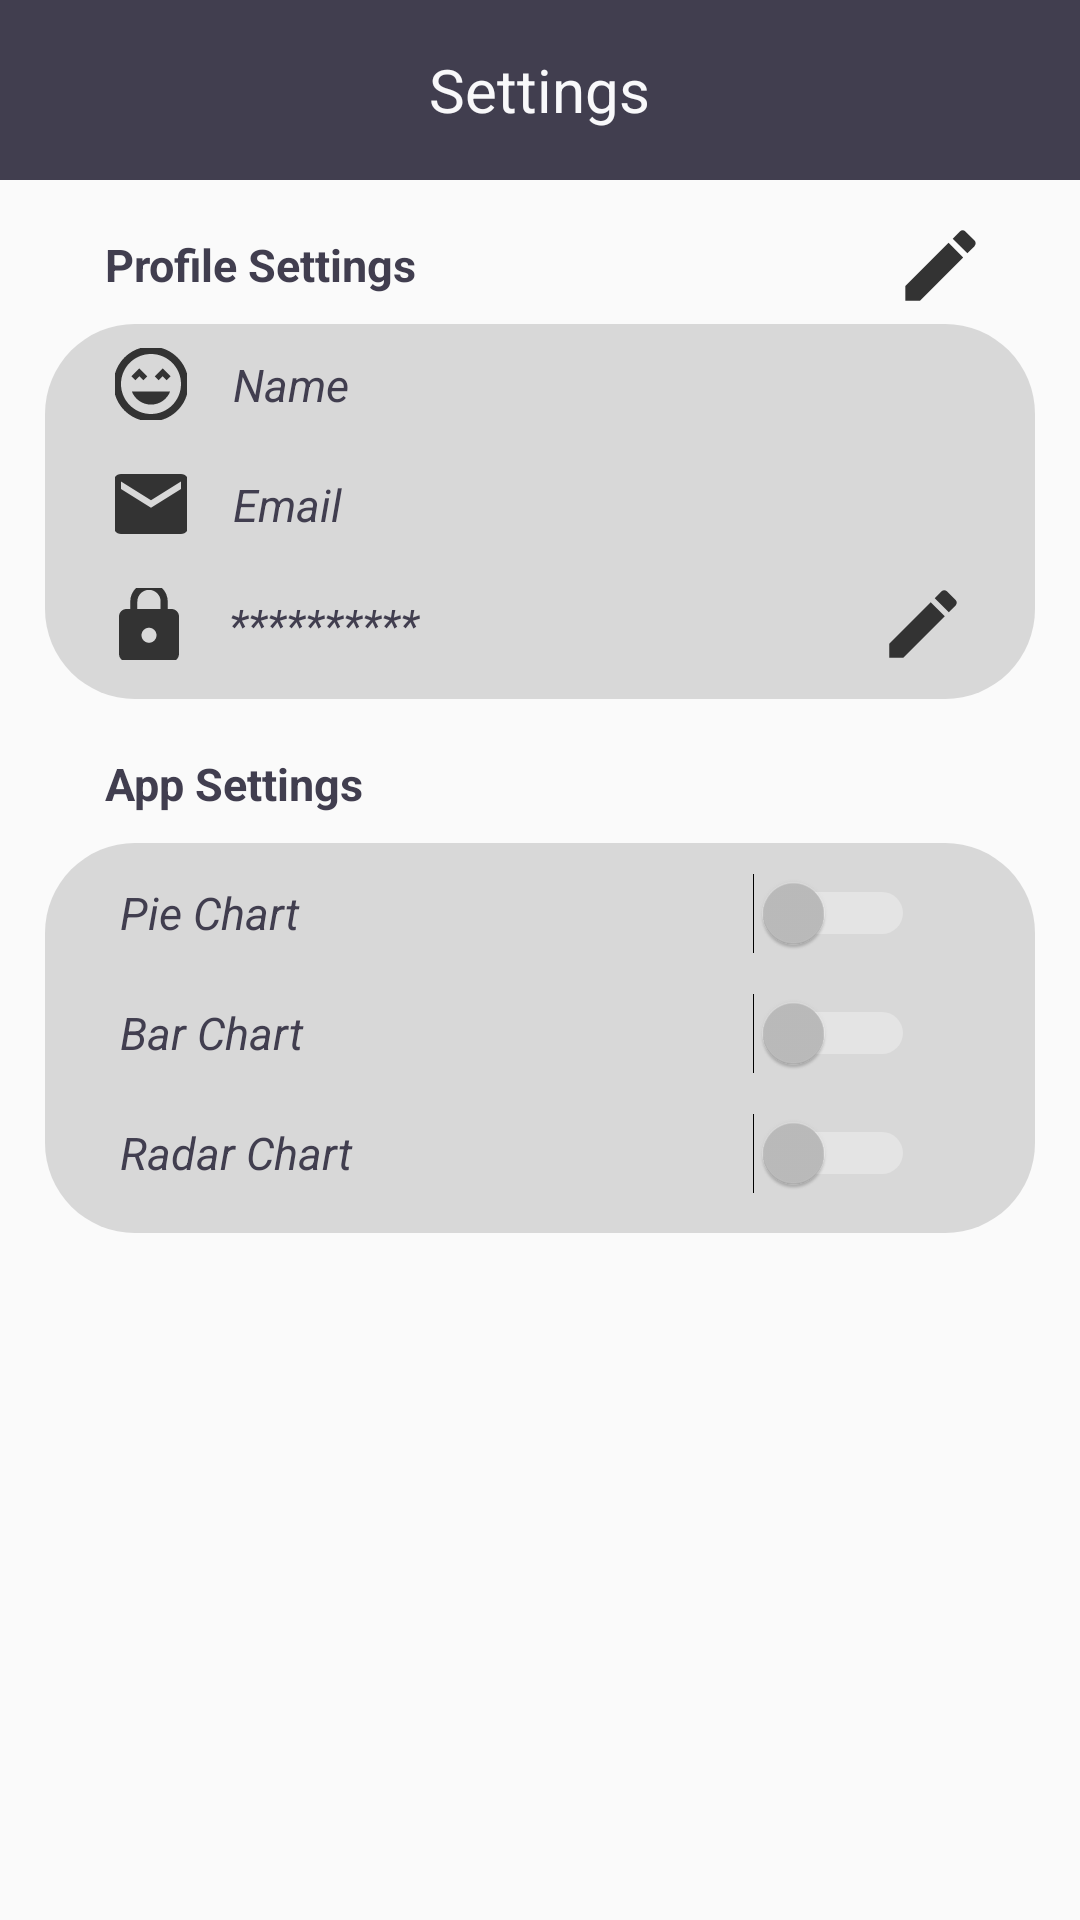

Icon bounding boxes for this 1080×1920 phone screenshot, format (x1, y1, x2, y2):
profilelock: (119, 588, 179, 660)
